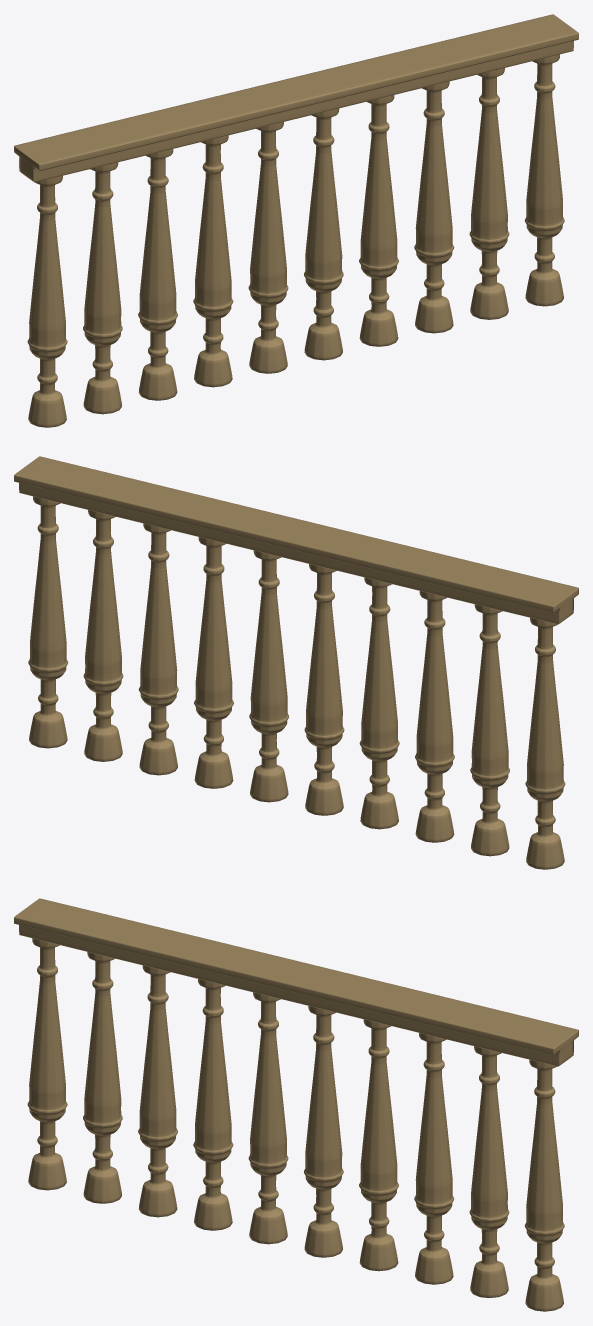
File: wooden railing.fbx
3 renders of one model, top to bottom at view 1: azimuth 30°, elevation 25°; view 2: azimuth 150°, elevation 25°; view 3: azimuth 330°, elevation 25°, orthographic.
Parts seen in each view (by area): view 1: railing; view 2: railing; view 3: railing.
Boxes of the visible parts, bbox=[...] form: railing: bbox=[14, 14, 578, 427]; railing: bbox=[14, 456, 578, 869]; railing: bbox=[14, 898, 578, 1311].
Size of the model in its own units: 13.49 by 6.45 by 1.13.
